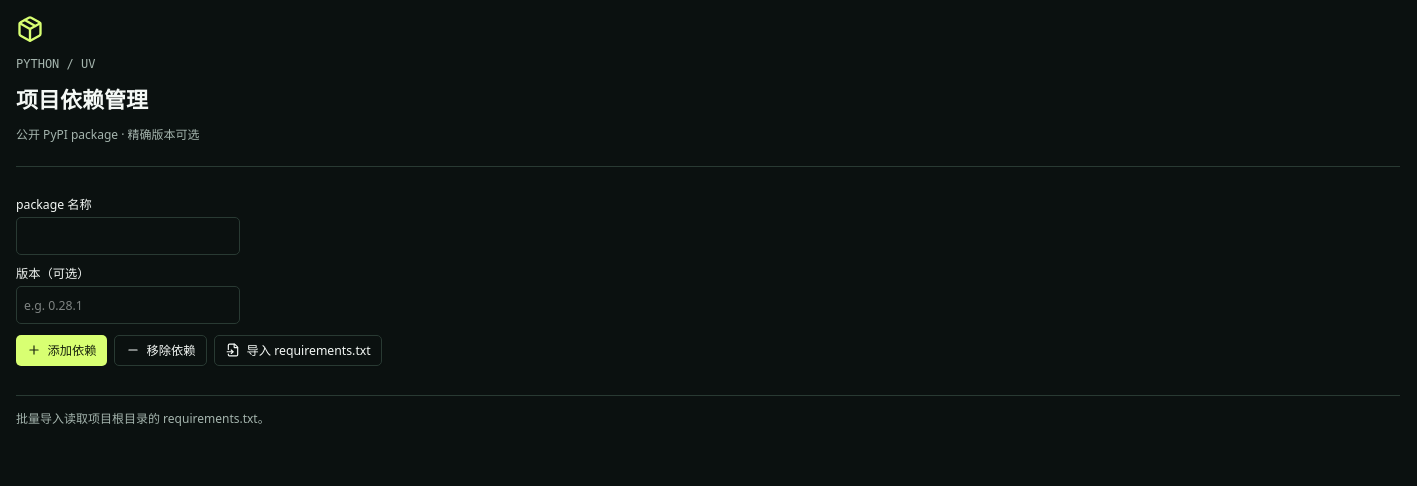
PythonDependenciesPanel requirements.txt import › answers PROJECT_BUSY as a proven pre-flight rejection: id cleared, busy message, no recovery
Click the button with aria-label "Import requirements.txt": (298, 350) [214,334,382,366]
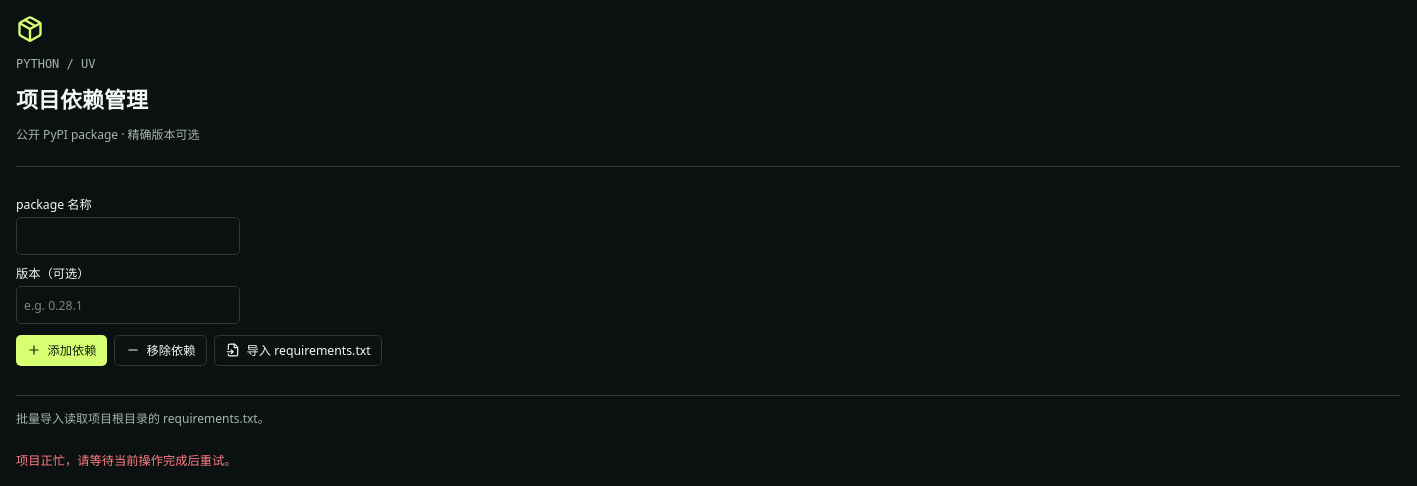
Result: the message "项目正忙，请等待当前操作完成后重试。" is shown at [16,452,236,469]
